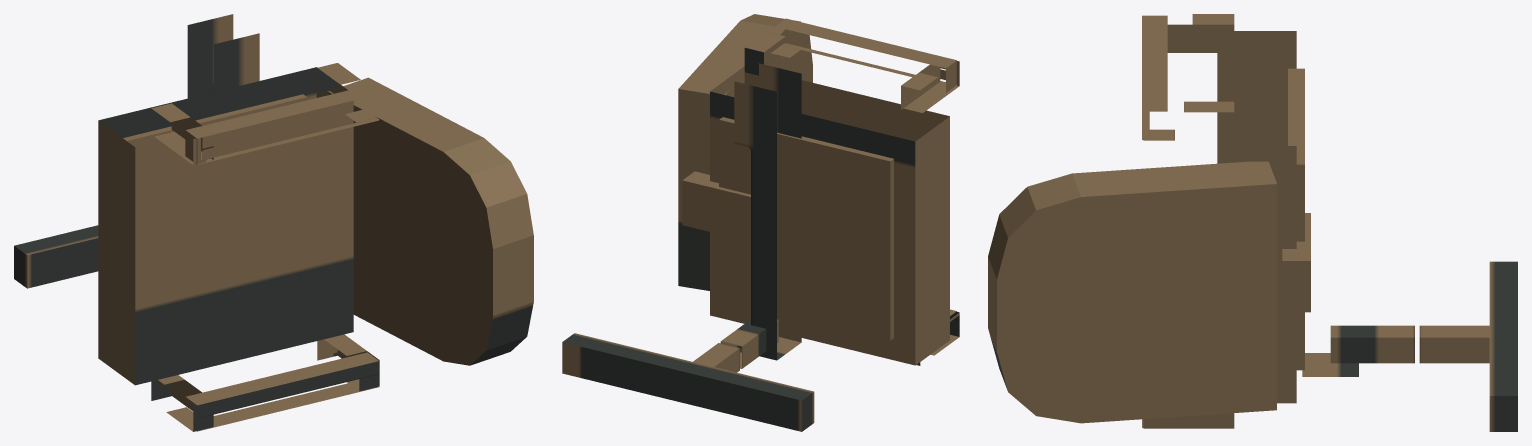
Rendered from section-5-vp0-0.3945_0.5545_-0.0002_1.obj.
3 renders of one model, left to right at view 1: azimuth 30°, elevation 25°; view 2: azimuth 150°, elevation 25°; view 3: azimuth 270°, elevation 25°, orthographic. The views are drawn at different scales.
Size of the model in its own units: 0.652 by 0.6525 by 0.9338.
